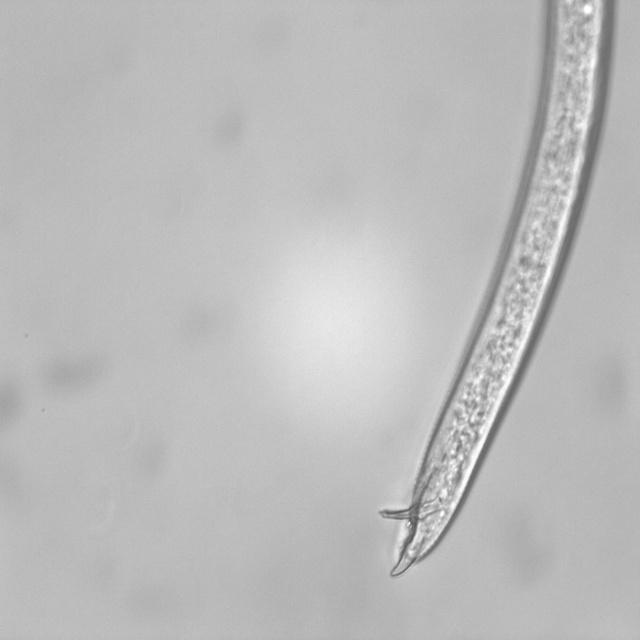Helicotylenchus: (374, 203, 579, 591)
